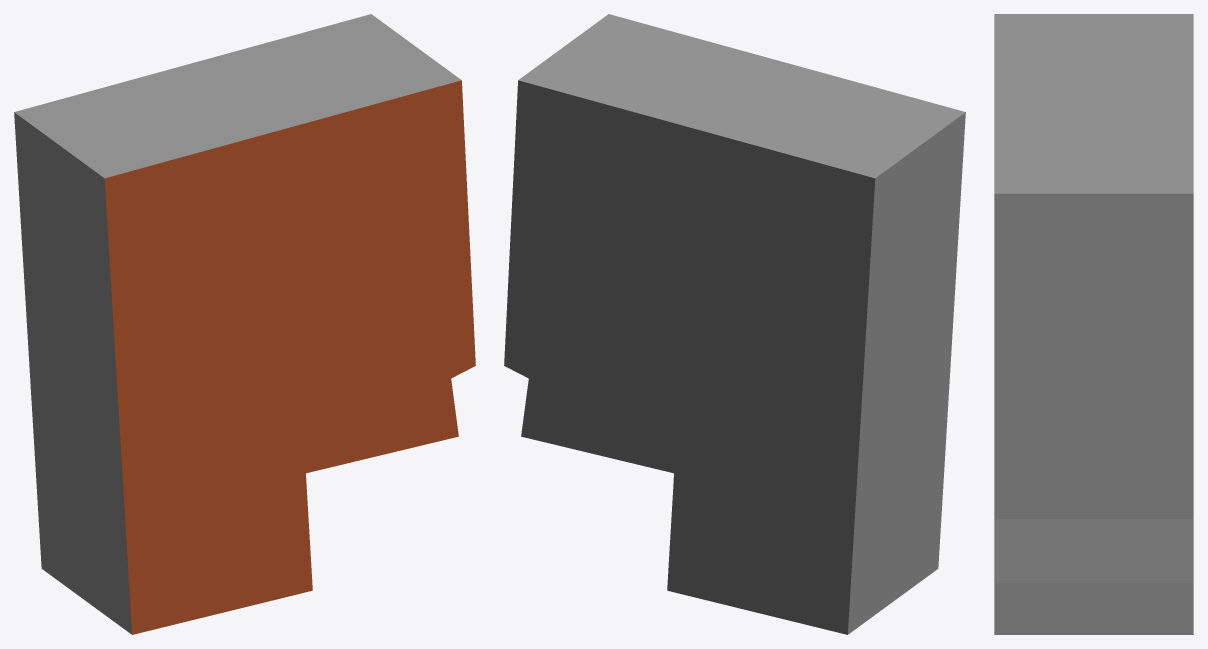
File: construction_6437_assumed_A_Casa_h6m.obj
The picture shows the model from 3 angles, left to right: view 1: azimuth 30°, elevation 25°; view 2: azimuth 150°, elevation 25°; view 3: azimuth 270°, elevation 25°; orthographic projection. The views are drawn at different scales.
Visible parts, largest first — view 1: construction_6437_assumed_A_Casa; view 2: construction_6437_assumed_A_Casa; view 3: construction_6437_assumed_A_Casa.
Boxes of the visible parts, left/top/right/bottom form: construction_6437_assumed_A_Casa: left=14, top=14, right=475, bottom=634; construction_6437_assumed_A_Casa: left=504, top=14, right=965, bottom=634; construction_6437_assumed_A_Casa: left=994, top=14, right=1193, bottom=634.
Bounding box in the file's own units: 14.19 × 17.33 × 6.
